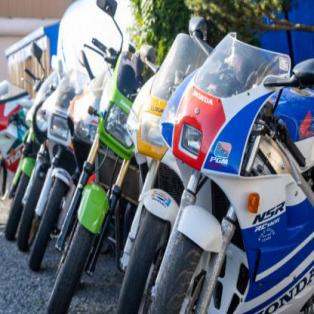Motocicleta: (149, 24, 313, 313)
